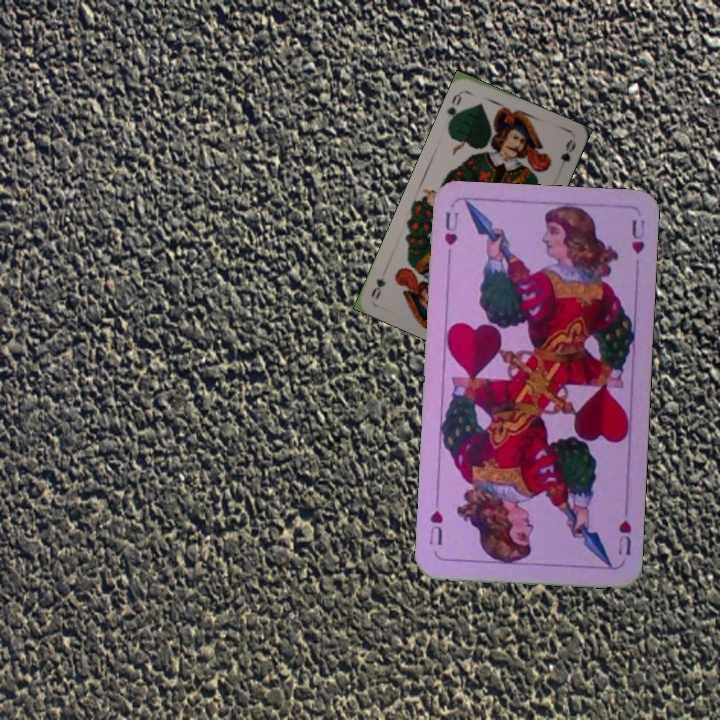GO: (442, 88, 466, 127)
HU: (440, 207, 462, 264), (614, 516, 634, 558)
